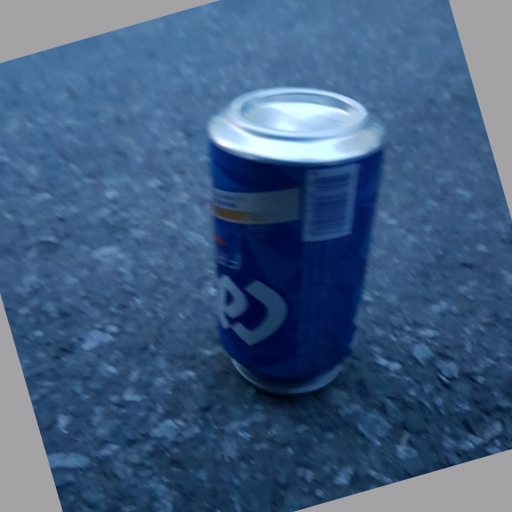Metal_0: (197, 86, 391, 398)
